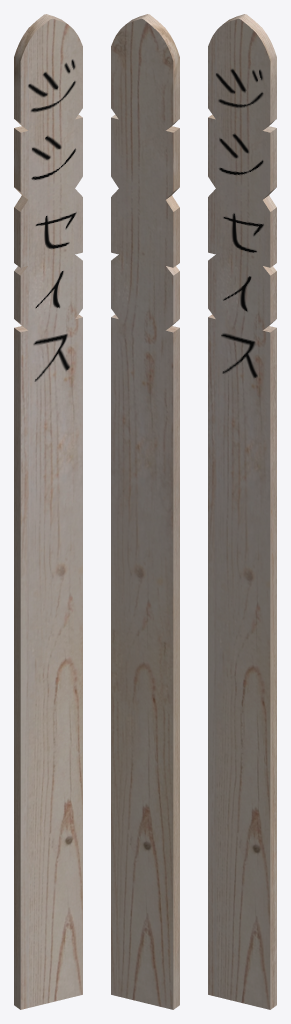
The model's file is sotoba2.FBX.
The picture shows the model from 3 angles, left to right: view 1: azimuth 30°, elevation 25°; view 2: azimuth 150°, elevation 25°; view 3: azimuth 330°, elevation 25°; orthographic projection.
Visible parts, largest first — view 1: sotoba2; view 2: sotoba2; view 3: sotoba2.
Part boxes in pixels (x1,y1,x2,y2): sotoba2: (14,14,82,1009); sotoba2: (111,14,179,1009); sotoba2: (208,14,276,1009).
Size of the model in its own units: 9.03 by 1.61 by 136.
